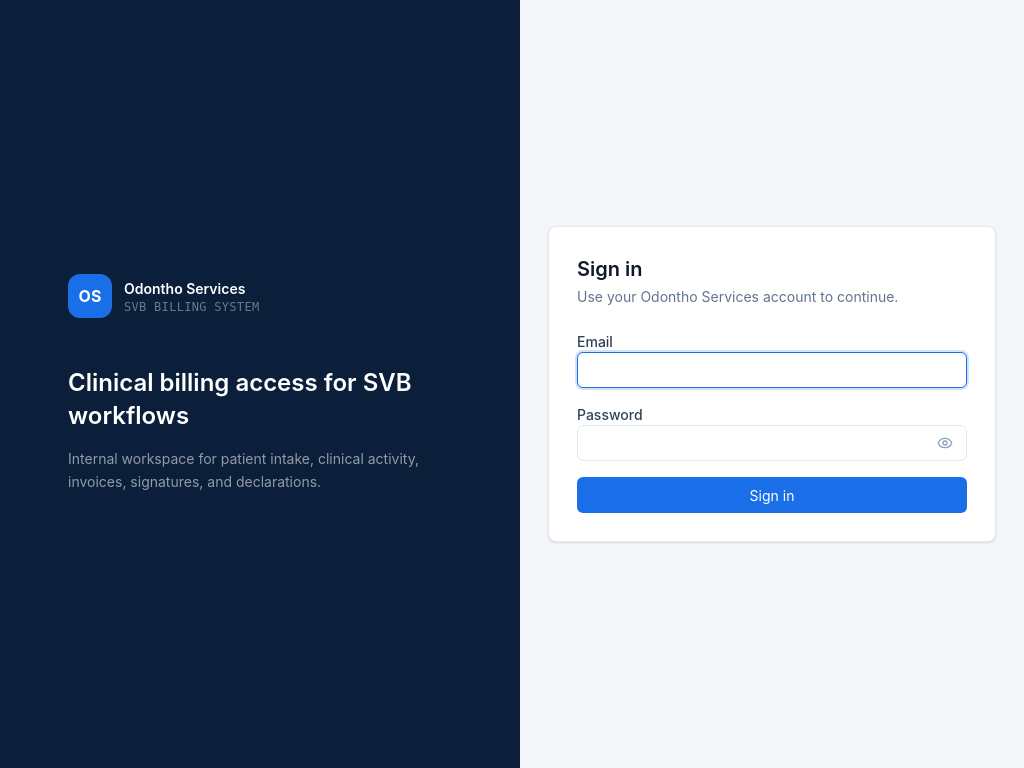
Test: authentication integration › shows a safe invalid credentials message
Type "user@example.test" into the field labelled "Email". click: (772, 370)
box: [577,352,967,388]
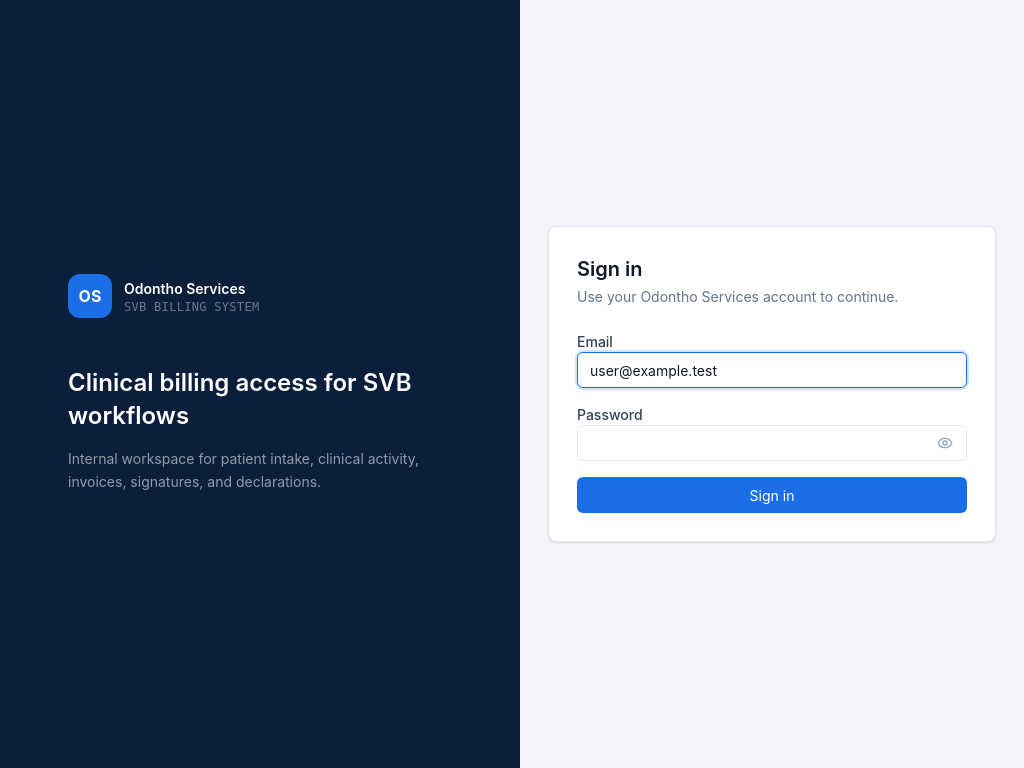
Type "wrong" into the password field labelled "Password". click: (772, 443)
box: [577,425,967,461]
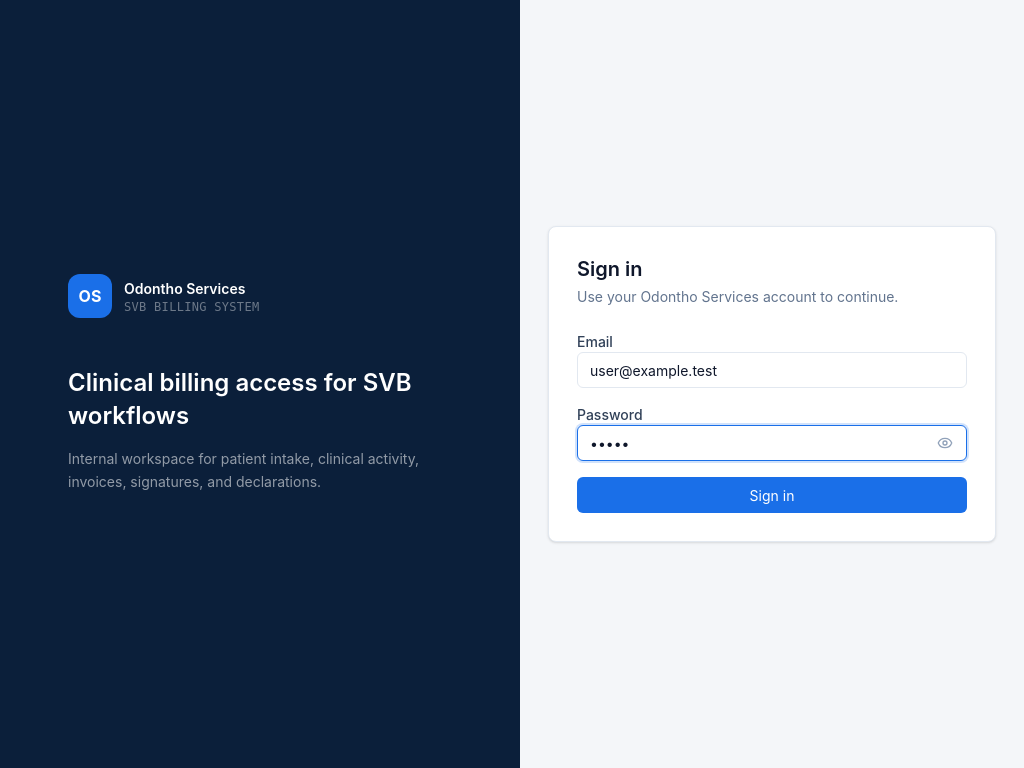
Click the button "Sign in". click: (772, 495)
box: [577,477,967,513]
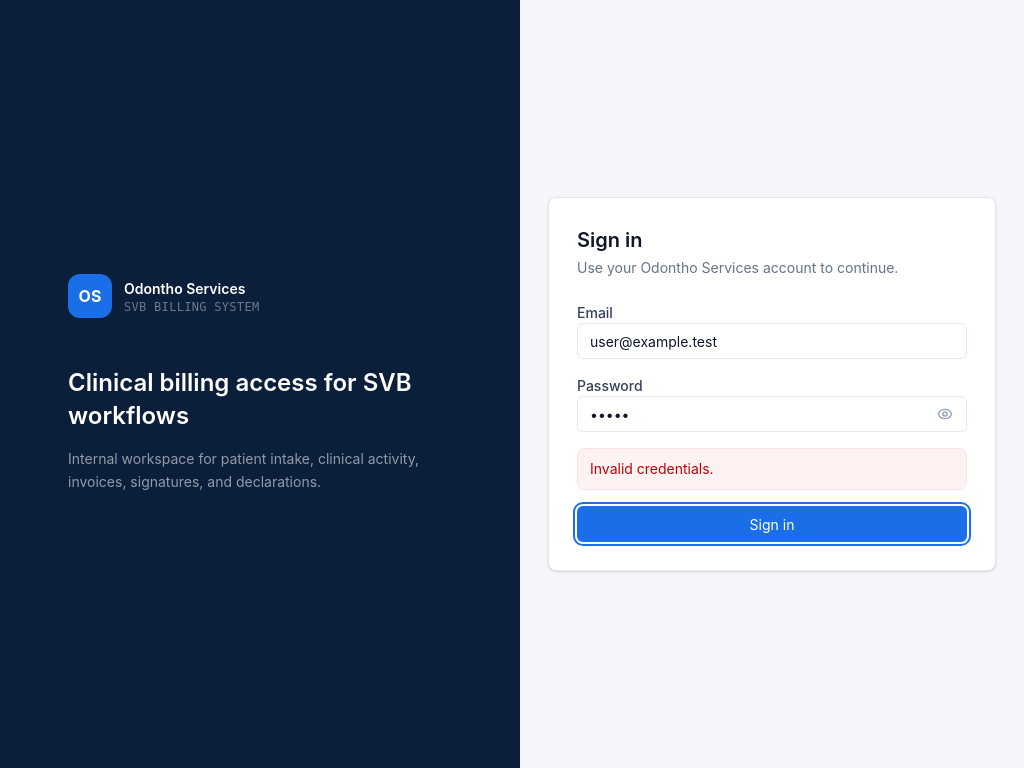
Expected: the message reads "Invalid credentials.", [590,460,714,477]
